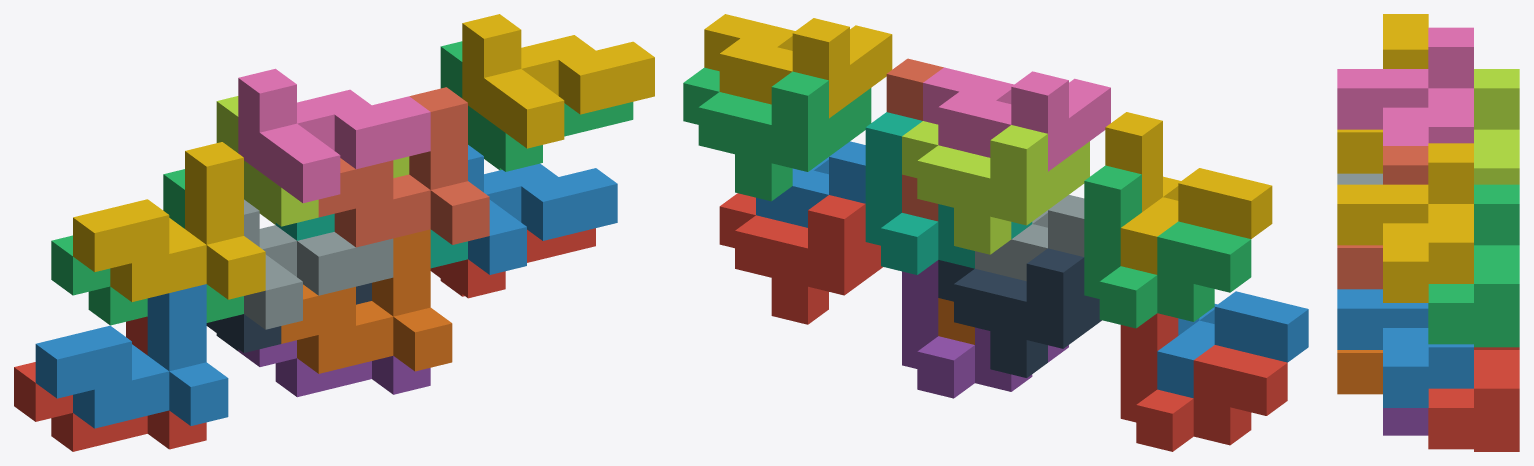
File: tiling.obj
The picture shows the model from 3 angles, left to right: view 1: azimuth 30°, elevation 25°; view 2: azimuth 150°, elevation 25°; view 3: azimuth 270°, elevation 25°; orthographic projection. The views are drawn at different scales.
Visible parts, largest first — view 1: copy_1_domain_4, copy_1_domain_2, copy_2_domain_8, copy_2_domain_4, copy_1_domain_8, copy_1_domain_6, copy_2_domain_6, copy_2_domain_2, copy_1_domain_1, copy_1_domain_3, copy_2_domain_7, copy_1_domain_5 (+4 smaller); view 2: copy_1_domain_3, copy_2_domain_7, copy_2_domain_3, copy_1_domain_1, copy_2_domain_5, copy_2_domain_1, copy_2_domain_8, copy_2_domain_4, copy_1_domain_4, copy_1_domain_7, copy_1_domain_2, copy_1_domain_5 (+4 smaller); view 3: copy_2_domain_8, copy_2_domain_4, copy_2_domain_7, copy_2_domain_6, copy_2_domain_5, copy_2_domain_3, copy_1_domain_4, copy_1_domain_8, copy_1_domain_6, copy_1_domain_5, copy_2_domain_2.
Part boxes in pixels (box(x1,y1,x2,y2)): copy_1_domain_4: box(73, 142, 265, 301); copy_1_domain_2: box(35, 284, 228, 428); copy_2_domain_8: box(462, 14, 654, 148); copy_2_domain_4: box(238, 68, 430, 203); copy_1_domain_8: box(318, 87, 489, 247); copy_1_domain_6: box(281, 229, 452, 373); copy_2_domain_6: box(468, 145, 617, 274); copy_2_domain_2: box(244, 199, 393, 329); copy_1_domain_1: box(14, 316, 206, 451); copy_1_domain_3: box(51, 169, 243, 325); copy_2_domain_7: box(440, 41, 633, 171); copy_1_domain_5: box(238, 340, 430, 397); copy_1_domain_3: box(1084, 165, 1251, 328); copy_2_domain_7: box(683, 67, 871, 201); copy_2_domain_3: box(902, 121, 1089, 254); copy_1_domain_1: box(1120, 313, 1287, 451); copy_2_domain_5: box(719, 193, 882, 324); copy_2_domain_1: box(938, 248, 1101, 377); copy_2_domain_8: box(704, 14, 892, 118); copy_2_domain_4: box(923, 67, 1110, 171); copy_1_domain_4: box(1105, 112, 1272, 274); copy_1_domain_7: box(865, 112, 1032, 274); copy_1_domain_2: box(1157, 291, 1308, 398); copy_1_domain_5: box(902, 260, 1068, 398); copy_2_domain_8: box(1337, 143, 1473, 302); copy_2_domain_4: box(1337, 27, 1473, 145); copy_2_domain_7: box(1428, 184, 1519, 347); copy_2_domain_6: box(1337, 289, 1473, 407); copy_2_domain_5: box(1428, 347, 1519, 451); copy_2_domain_3: box(1474, 69, 1519, 184); copy_1_domain_4: box(1337, 14, 1428, 173); copy_1_domain_8: box(1337, 146, 1428, 289); copy_1_domain_6: box(1337, 350, 1382, 394); copy_1_domain_5: box(1383, 408, 1428, 435); copy_2_domain_2: box(1337, 173, 1382, 184).
Size of the model in its own units: 16 by 8 by 4.
